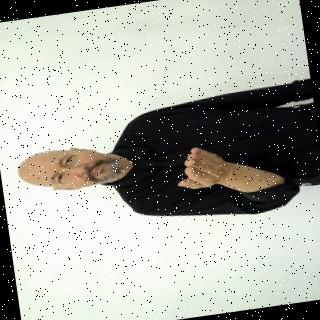ThankYou: (10, 76, 320, 244)
